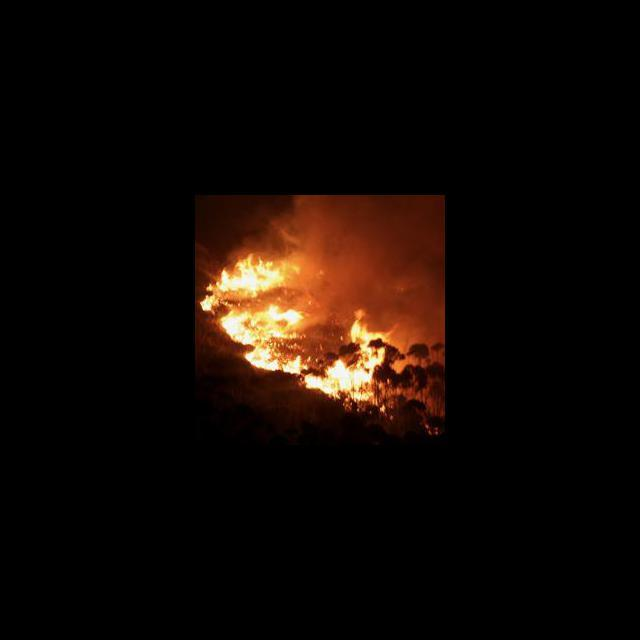Fire: (198, 246, 396, 409)
